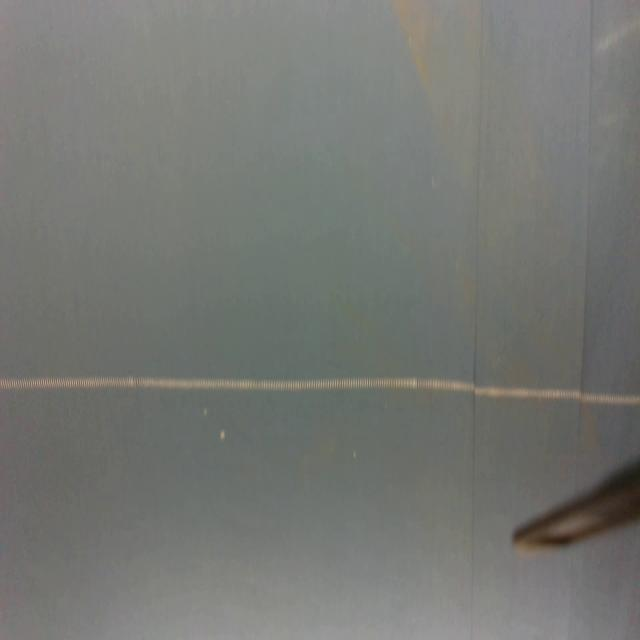crease: (469, 0, 485, 638), (574, 0, 594, 444)
hole: (352, 449, 361, 464), (202, 406, 209, 421), (220, 429, 225, 444)
